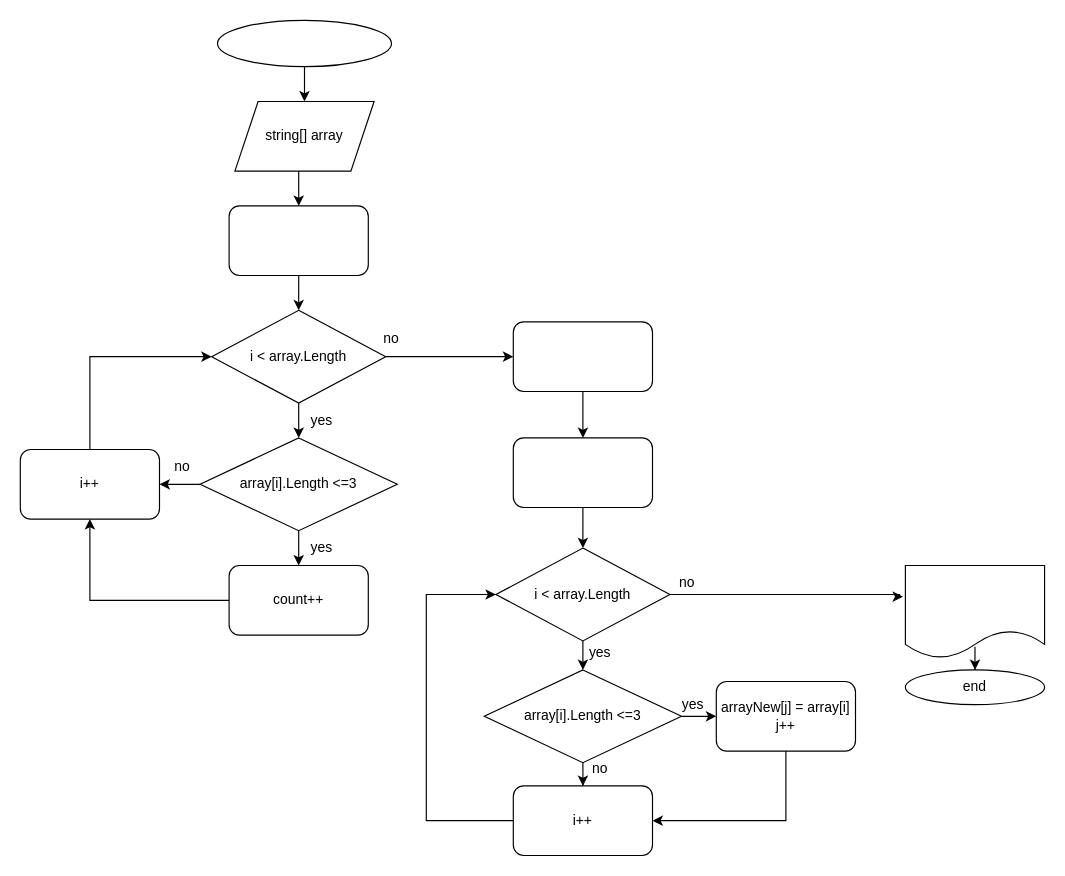
Image size: 1065x876. Some labels were removed from this diagram. Here are the shapes that lost their labels. From the top down, the centre of each, then its label:
At [304,43]: "start".
At [298,240]: "count = 0 i = 0".
At [582,356]: "string[] arrayNew = new string[count]".
At [582,472]: "j = 0 i = 0".
At [974,611]: "arrayNew".
